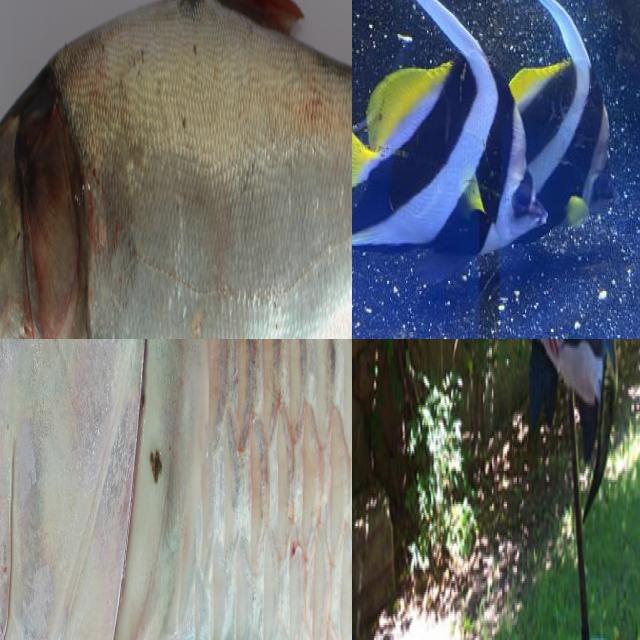fish: (0, 0, 352, 339), (0, 339, 352, 640), (352, 0, 549, 270), (474, 339, 626, 508)
